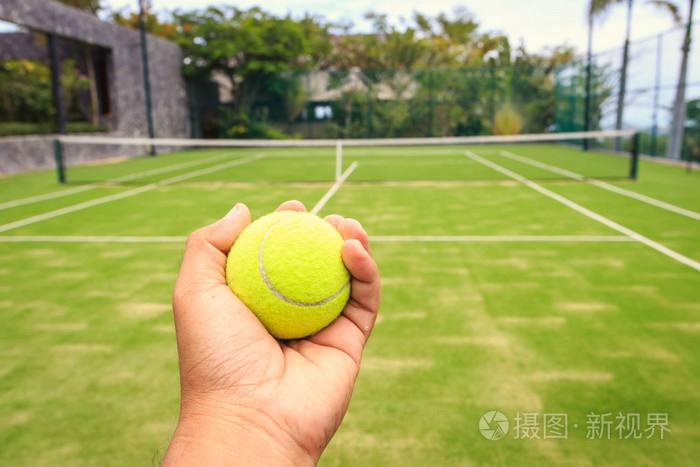no-phone: (168, 196, 384, 455)
